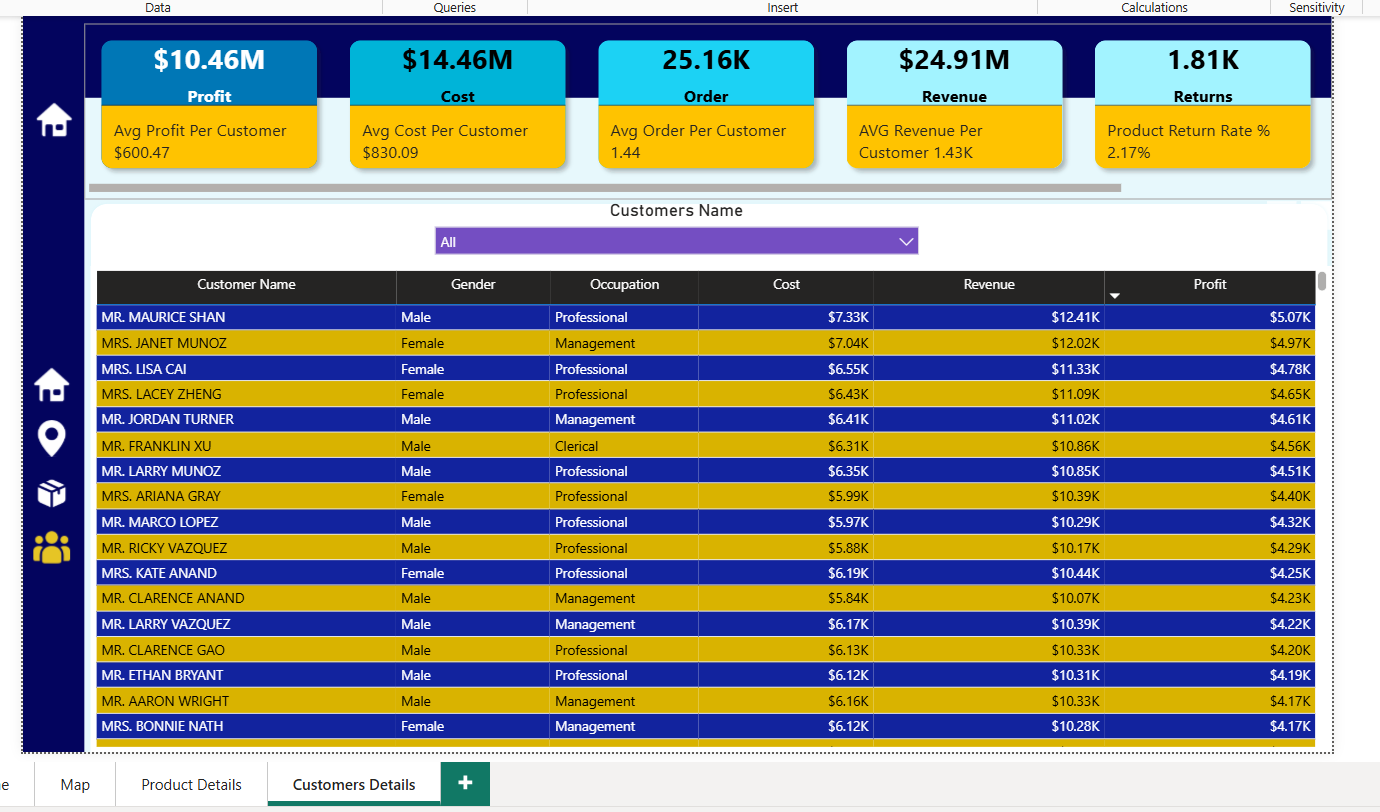

The dashboard page shown, as its layout file describes it:
{"tool":"powerbi","page":{"name":"Customers Details","canvas":[1280,720],"ordinal":4},"visuals":[{"type":"shape","box":[0,0,1280.3,80],"z":0},{"type":"shape","box":[0,0,60,720.2],"z":1000},{"type":"cardVisual","fields":{"Data":["_Measure.Profit","_Measure.Cost","_Measure.Order QTY","_Measure.Total Revenue","_Measure.Total Return","_Measure.Quantity Sold"]},"box":[59.9,7.3,1220.4,172.4],"z":2000},{"type":"shape","box":[62.4,179.8,1217.9,540.5],"z":3000},{"type":"tableEx","fields":{"Values":["DimCustomer.Customer Name","DimCustomer.Gender","DimCustomer.Occupation","_Measure.Cost","_Measure.Total Revenue","_Measure.Profit"]},"box":[66,244.6,1214.3,475.7],"z":4000},{"type":"slicer","title":"Customers Name","fields":{"Values":["DimCustomer.Customer Name"]},"box":[392.5,179.8,494,64.8],"z":5000},{"type":"actionButton","box":[5.8,338.7,51.4,44],"z":6000},{"type":"actionButton","box":[5.8,391.7,51.4,44],"z":7000},{"type":"actionButton","box":[5.8,444.7,51.4,44],"z":8000},{"type":"actionButton","box":[5.8,497.7,51.4,44],"z":9000}]}

Visuals, with their boxes on the page's 1280x720 design canvas (x1, y1, x2, y2). These are canvas units, not pixel positions in the 1380x812 screenshot, which may show the page scaled, cropped or inside an application window:
shape: rect(0, 0, 1280, 80)
shape: rect(0, 0, 60, 720)
cardVisual - _Measure.Profit x _Measure.Cost: rect(60, 7, 1280, 180)
shape: rect(62, 180, 1280, 720)
tableEx - DimCustomer.Customer Name x DimCustomer.Gender: rect(66, 245, 1280, 720)
"Customers Name" slicer: rect(392, 180, 886, 245)
actionButton: rect(6, 339, 57, 383)
actionButton: rect(6, 392, 57, 436)
actionButton: rect(6, 445, 57, 489)
actionButton: rect(6, 498, 57, 542)
